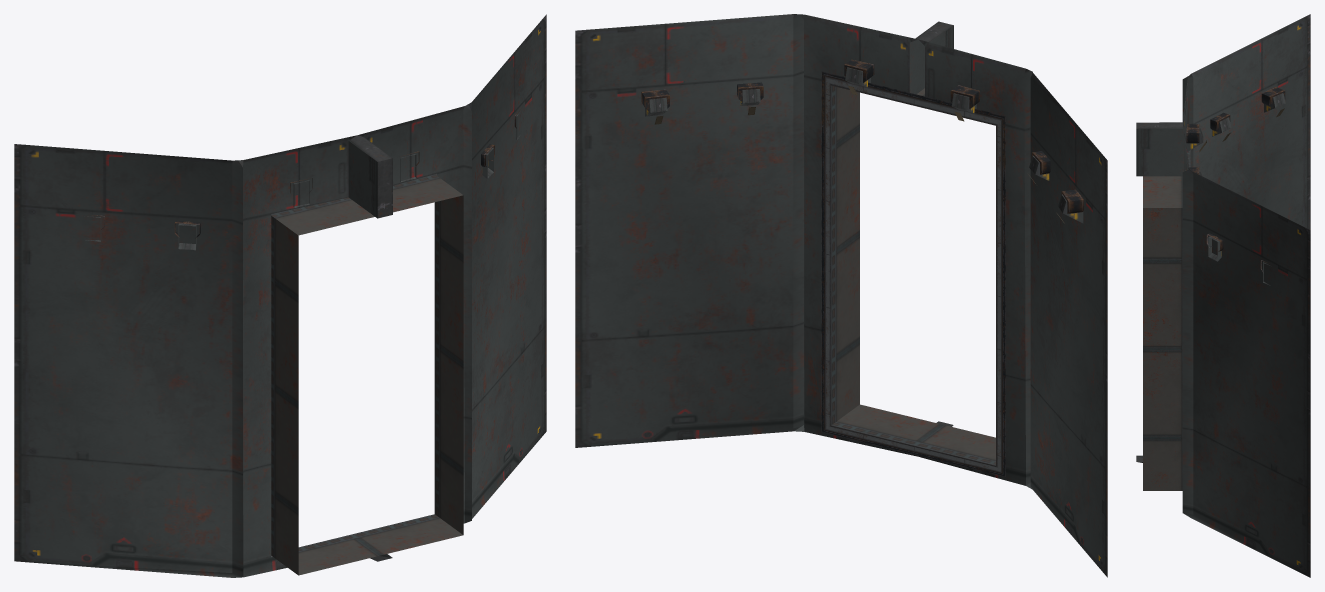
Rendered from ARC0910116.fbx.
3 renders of one model, left to right at view 1: azimuth 30°, elevation 25°; view 2: azimuth 150°, elevation 25°; view 3: azimuth 270°, elevation 25°, orthographic. The views are drawn at different scales.
Visible parts, largest first — view 1: smARC0910116; view 2: smARC0910116; view 3: smARC0910116.
Boxes of the visible parts, x1,y1,x2,y2 form: smARC0910116: [14, 14, 546, 577]; smARC0910116: [575, 14, 1107, 577]; smARC0910116: [1136, 14, 1310, 577].
Bounding box in the file's own units: 400 × 300 × 136.
1 material, 1 textured.
